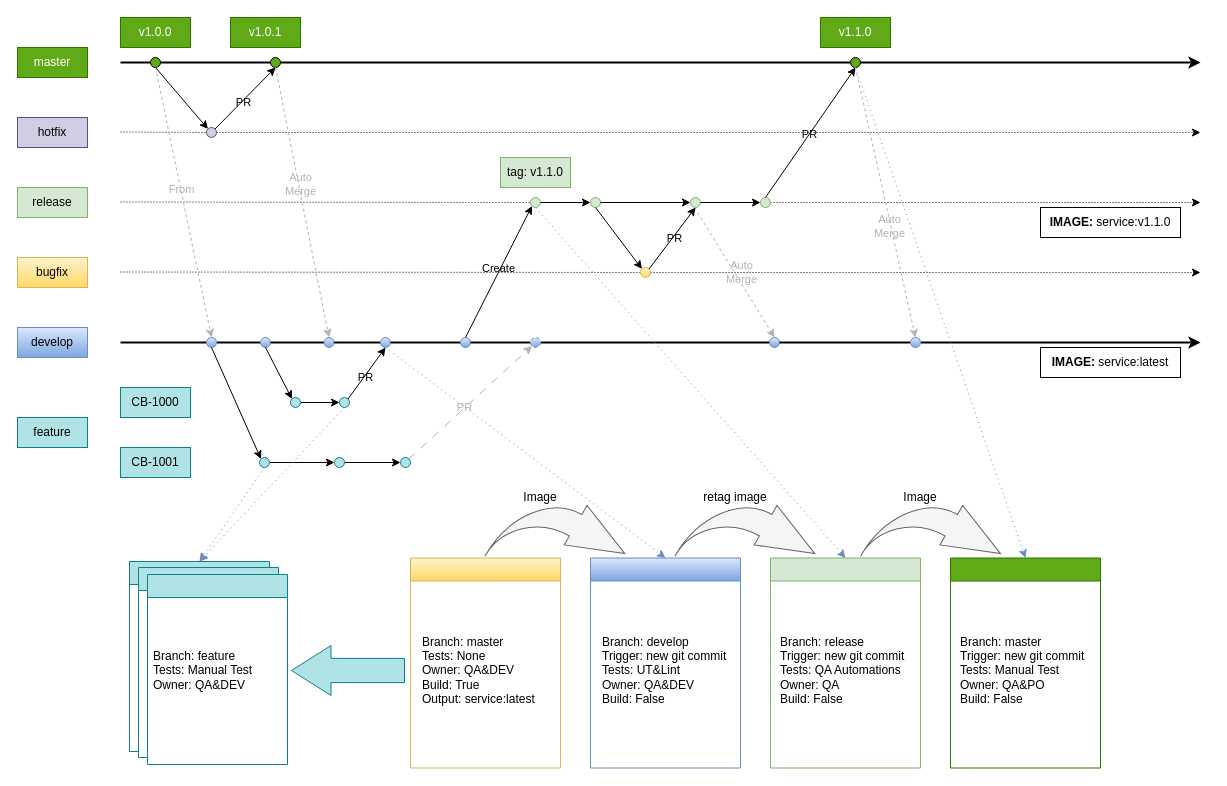
The diagram is 1227 pixels wide and 786 high, and some of its shapes have lost their labels. The shapes that lost their labels are listed below. From the top down, each one's box as (x1, y1, x2, y2) in pixels, then its label:
(146, 574, 288, 764): sub-envs
(290, 644, 404, 696): 基准环境
(410, 557, 560, 768): test33(FAT)
(590, 557, 740, 768): test17(SIT)
(770, 557, 920, 768): Staging
(950, 557, 1100, 768): PRO
